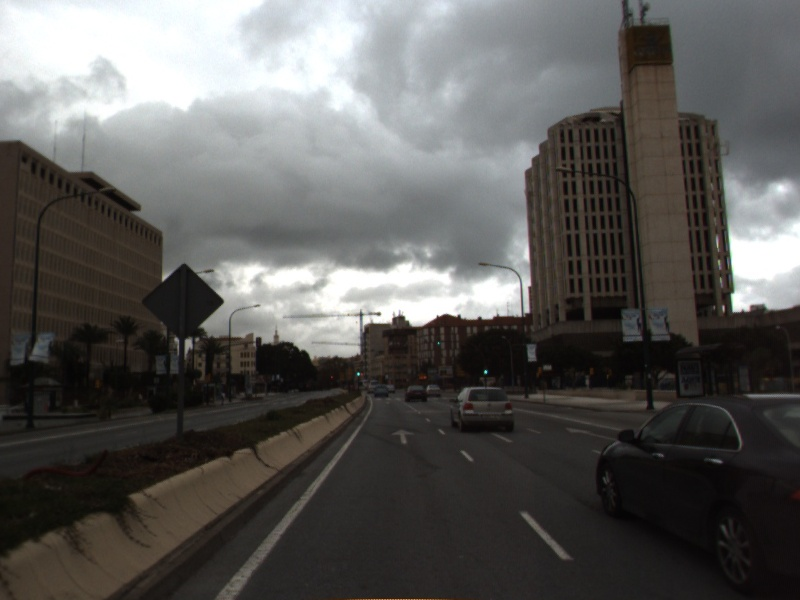STRAIGHT: (564, 425, 619, 442), (388, 426, 417, 446)
